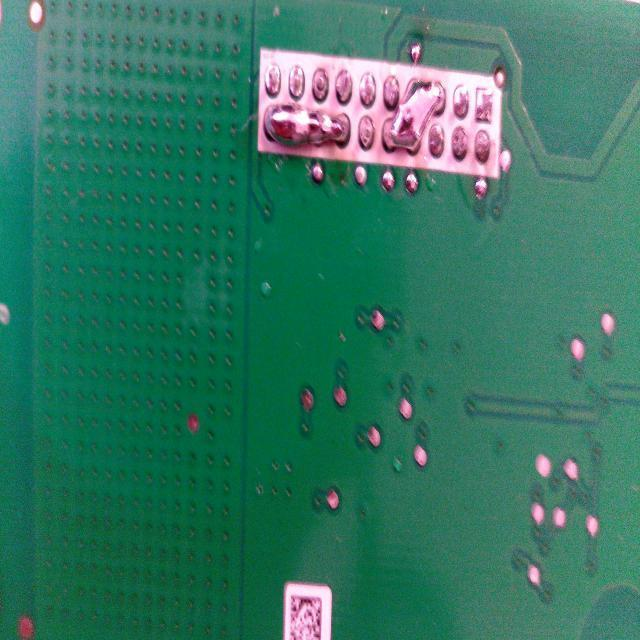Soldering shorted: (378, 72, 444, 161), (265, 101, 350, 156)
